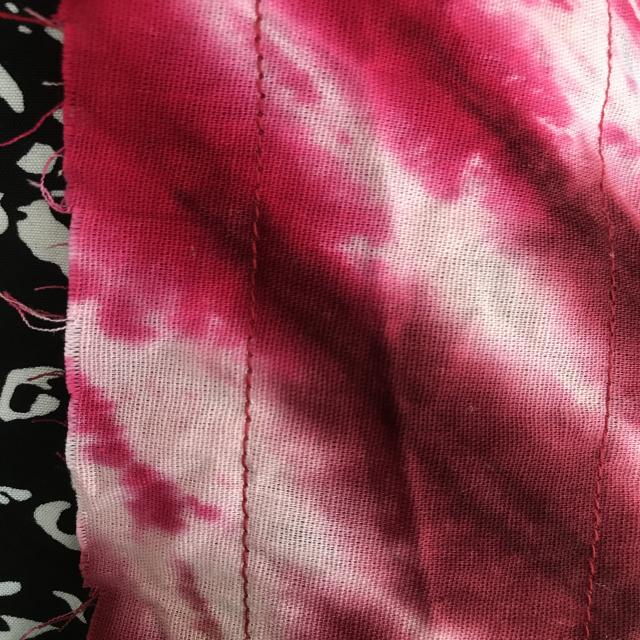good: (234, 351, 266, 462), (262, 406, 269, 407)
